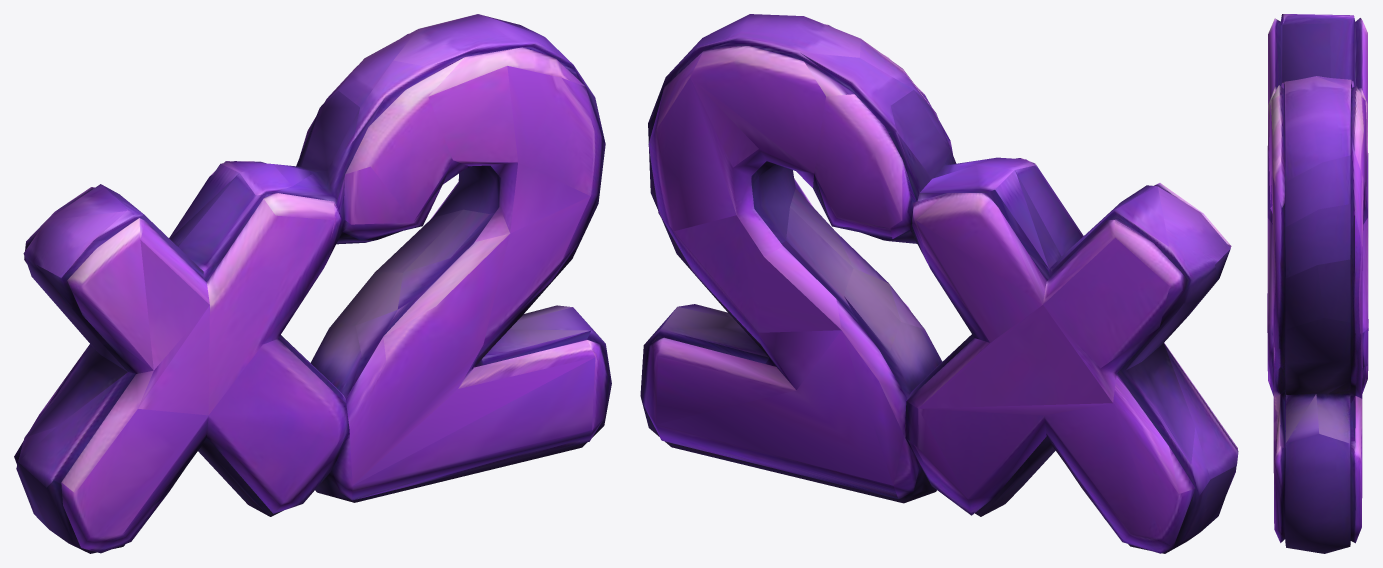
File: double.glb
3 views of the same model, side by side, from view 1: azimuth 30°, elevation 25°; view 2: azimuth 150°, elevation 25°; view 3: azimuth 270°, elevation 25° (orthographic). The views are drawn at different scales.
Parts seen in each view (by area): view 1: TripoDouble_Mesh; view 2: TripoDouble_Mesh; view 3: TripoDouble_Mesh.
Part boxes in pixels (x1,y1,x2,y2): TripoDouble_Mesh: [14, 14, 611, 553]; TripoDouble_Mesh: [640, 14, 1238, 553]; TripoDouble_Mesh: [1267, 14, 1368, 553].
Size of the model in its own units: 1.1 by 0.8 by 0.18.
1 material, 1 textured.
